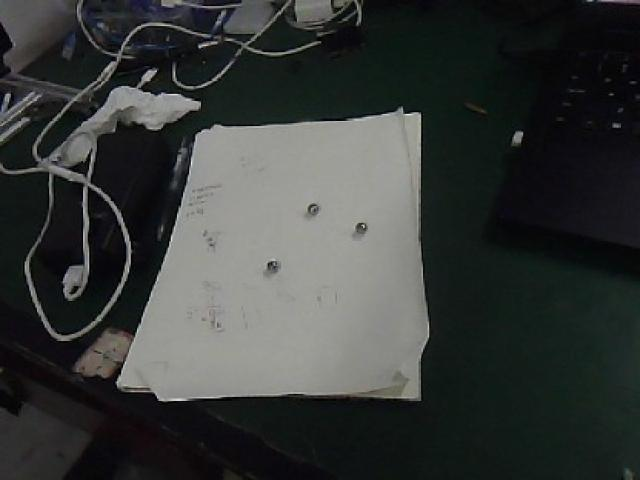steel-ball: (303, 182, 328, 226), (350, 206, 376, 245), (260, 252, 282, 285)
